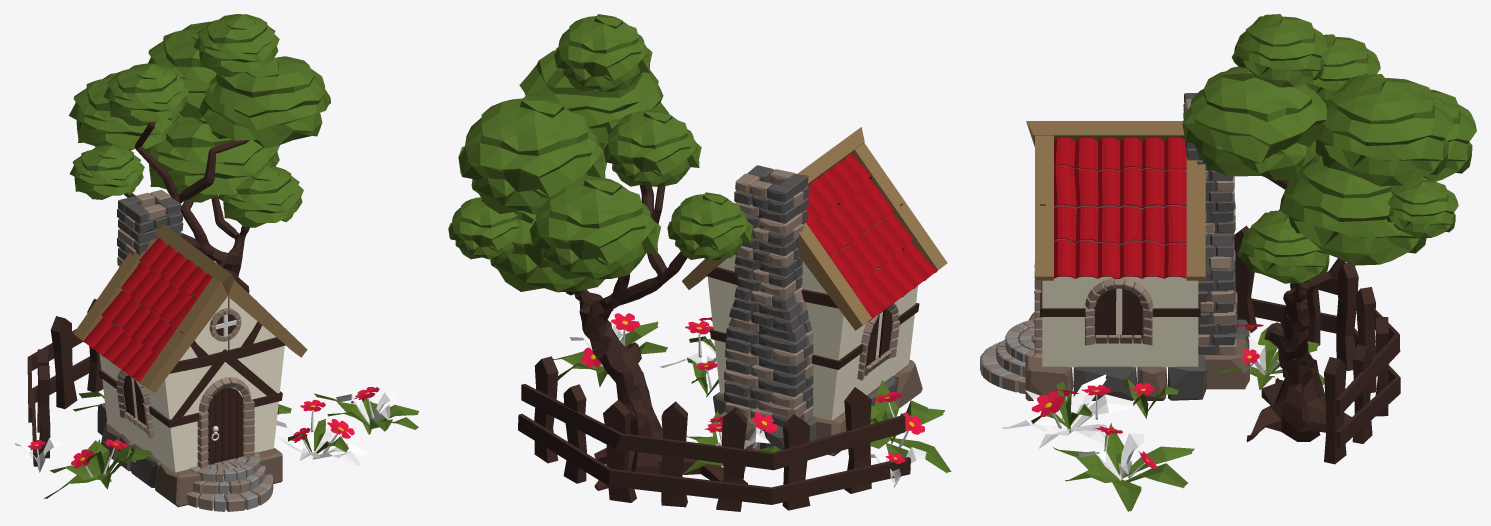
The model's file is castle_100.glb.
The picture shows the model from 3 angles, left to right: view 1: azimuth 30°, elevation 25°; view 2: azimuth 150°, elevation 25°; view 3: azimuth 270°, elevation 25°; orthographic projection. The views are drawn at different scales.
Visible parts, largest first — view 1: Wall, Roof, Icosphere.001, roof Frame, Icosphere.006, Door, Icosphere, Icosphere.008, Stair case, Trunk, House Frame, Icosphere.007 (+18 smaller); view 2: Chiminy, Icosphere.002, Roof, Icosphere.005, Trunk, Wall, Circle.005, Circle.006, roof Frame, Icosphere, Icosphere.008, Icosphere.001 (+17 smaller); view 3: Roof, Icosphere.001, Icosphere.002, Wall, Icosphere.006, roof Frame, Trunk, Floor, Chiminy, Icosphere.008, Icosphere.007, Icosphere.004 (+22 smaller).
Boxes of the visible parts, x1,y1,x2,y2 form: Wall: (99, 269, 284, 472); Roof: (83, 238, 212, 385); Icosphere.001: (198, 56, 330, 148); roof Frame: (73, 223, 307, 393); Icosphere.006: (145, 114, 279, 202); Door: (197, 377, 254, 468); Icosphere: (103, 63, 189, 126); Icosphere.008: (193, 14, 279, 76); Stair case: (186, 452, 273, 511); Trunk: (124, 121, 249, 282); House Frame: (98, 297, 285, 427); Icosphere.007: (217, 165, 303, 227); Chiminy: (724, 165, 813, 426); Icosphere.002: (458, 95, 606, 214); Roof: (805, 153, 936, 321); Icosphere.005: (529, 176, 660, 279); Trunk: (566, 184, 747, 490); Wall: (707, 204, 917, 420); Circle.005: (518, 413, 910, 504); Circle.006: (521, 384, 905, 470); roof Frame: (682, 127, 947, 330); Icosphere: (603, 109, 701, 186); Icosphere.008: (554, 14, 652, 91); Icosphere.001: (519, 50, 668, 148); Roof: (1054, 137, 1186, 278); Icosphere.001: (1182, 66, 1327, 180); Icosphere.002: (1315, 74, 1453, 186); Wall: (1042, 165, 1198, 367); Icosphere.006: (1279, 155, 1427, 265); roof Frame: (1026, 121, 1205, 280); Trunk: (1246, 177, 1351, 442); Floor: (1025, 312, 1249, 400); Chiminy: (1183, 93, 1237, 355); Icosphere.008: (1231, 14, 1327, 87); Icosphere.007: (1237, 210, 1329, 283); Icosphere.004: (1387, 179, 1458, 238).
Size of the model in its own units: 3.97 by 3.99 by 4.08.
